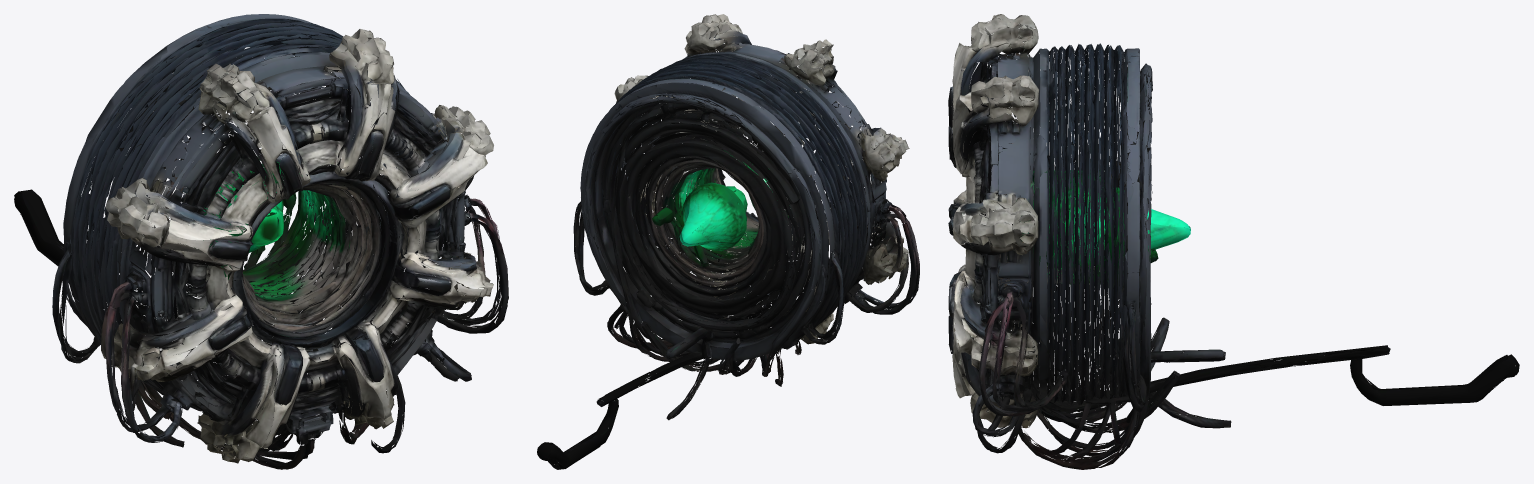
The model's file is mothership_docking_umbilical_collar.glb.
3 views of the same model, side by side, from view 1: azimuth 30°, elevation 25°; view 2: azimuth 150°, elevation 25°; view 3: azimuth 270°, elevation 25° (orthographic). The views are drawn at different scales.
Visible parts, largest first — view 1: node_0; view 2: node_0; view 3: node_0.
Part boxes in pixels (<box>): node_0: <box>14,14,508,469</box>; node_0: <box>537,14,919,469</box>; node_0: <box>948,14,1519,469</box>.
Bounding box in the file's own units: 0.7282 × 0.7471 × 1.01.
Materials: 1 (1 with a texture image).
